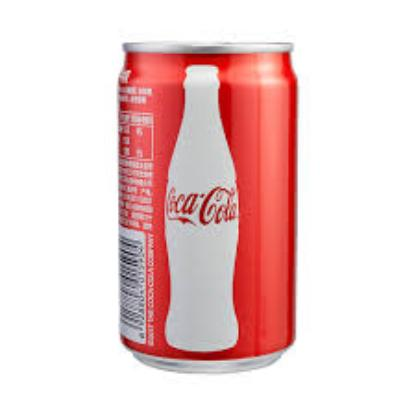Can: (116, 38, 302, 374)
